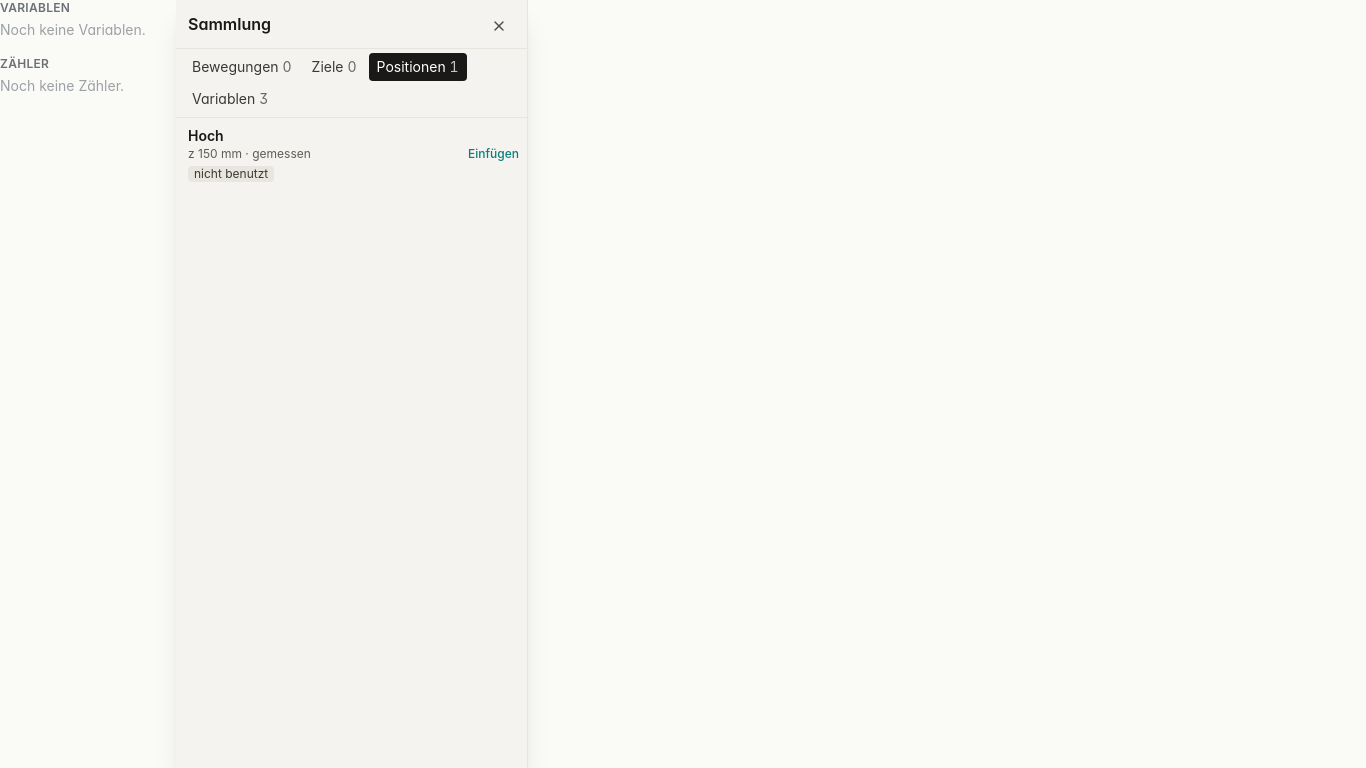
„Benutzt in: nirgends" speaks of code, not of blocks › an unused Position points at „Einfügen"
Click the button "Hoch z 150 mm · gemessen nicht benutzt".
click(206, 136)  # box [176, 118, 460, 190]
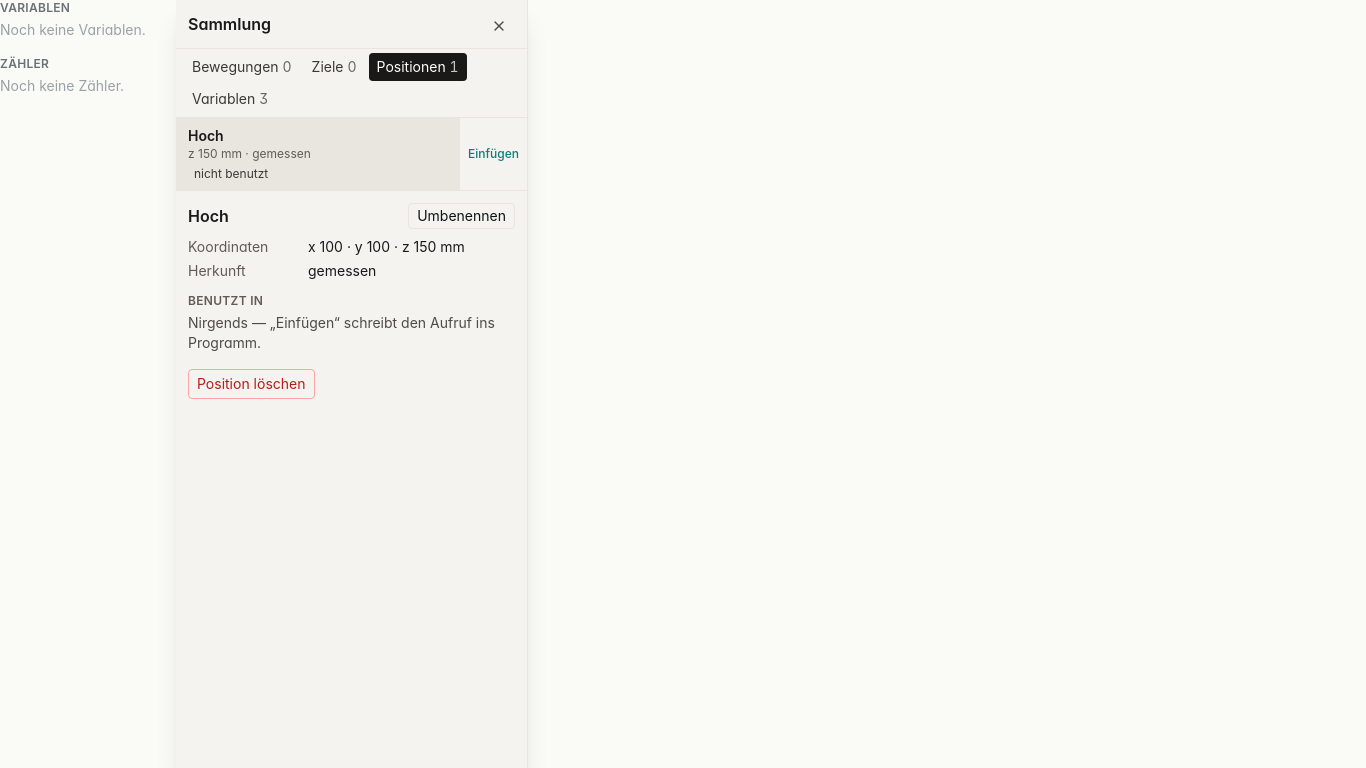
Check: the text "Nirgends — „Einfügen“ schreibt den Aufruf ins Programm." is shown, box [188, 313, 515, 353]
